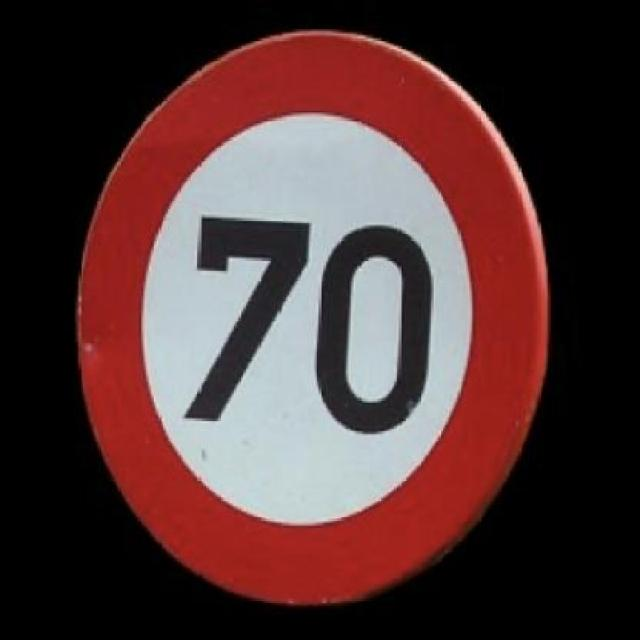forb_speed_over_70: (80, 36, 545, 602)
